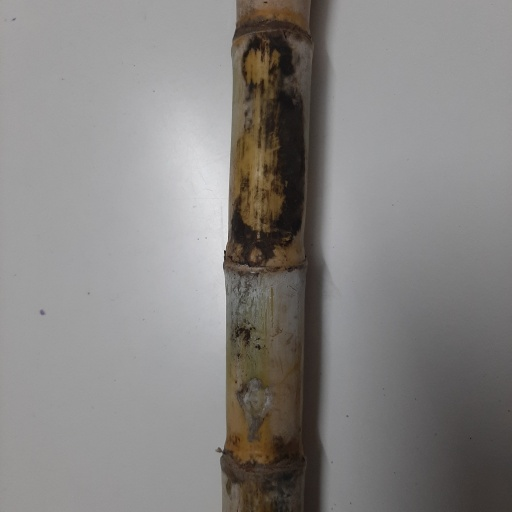Bud: (246, 248, 267, 266)
